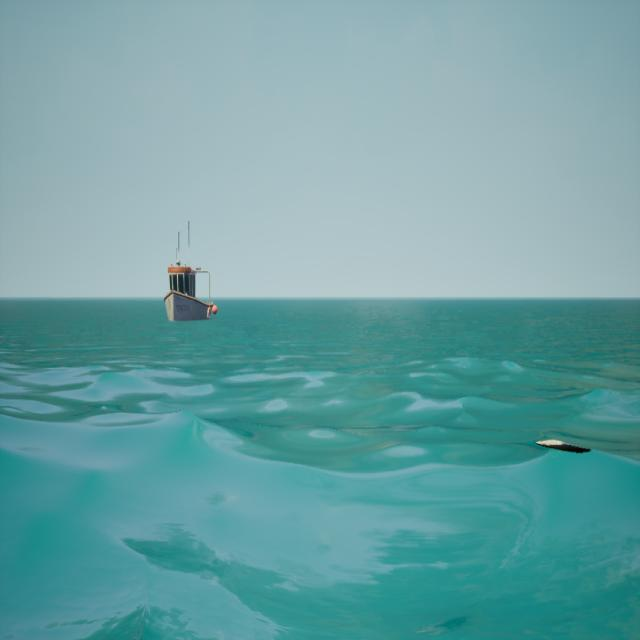ship: (161, 206, 221, 326)
